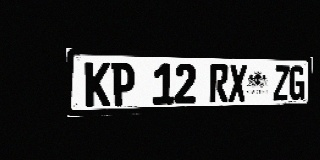1: (153, 63, 175, 105)
2: (175, 64, 196, 104)
G: (289, 66, 305, 100)
K: (85, 62, 110, 107)
P: (111, 62, 135, 106)
R: (209, 64, 229, 103)
X: (228, 65, 247, 102)
Z: (273, 65, 290, 101)
